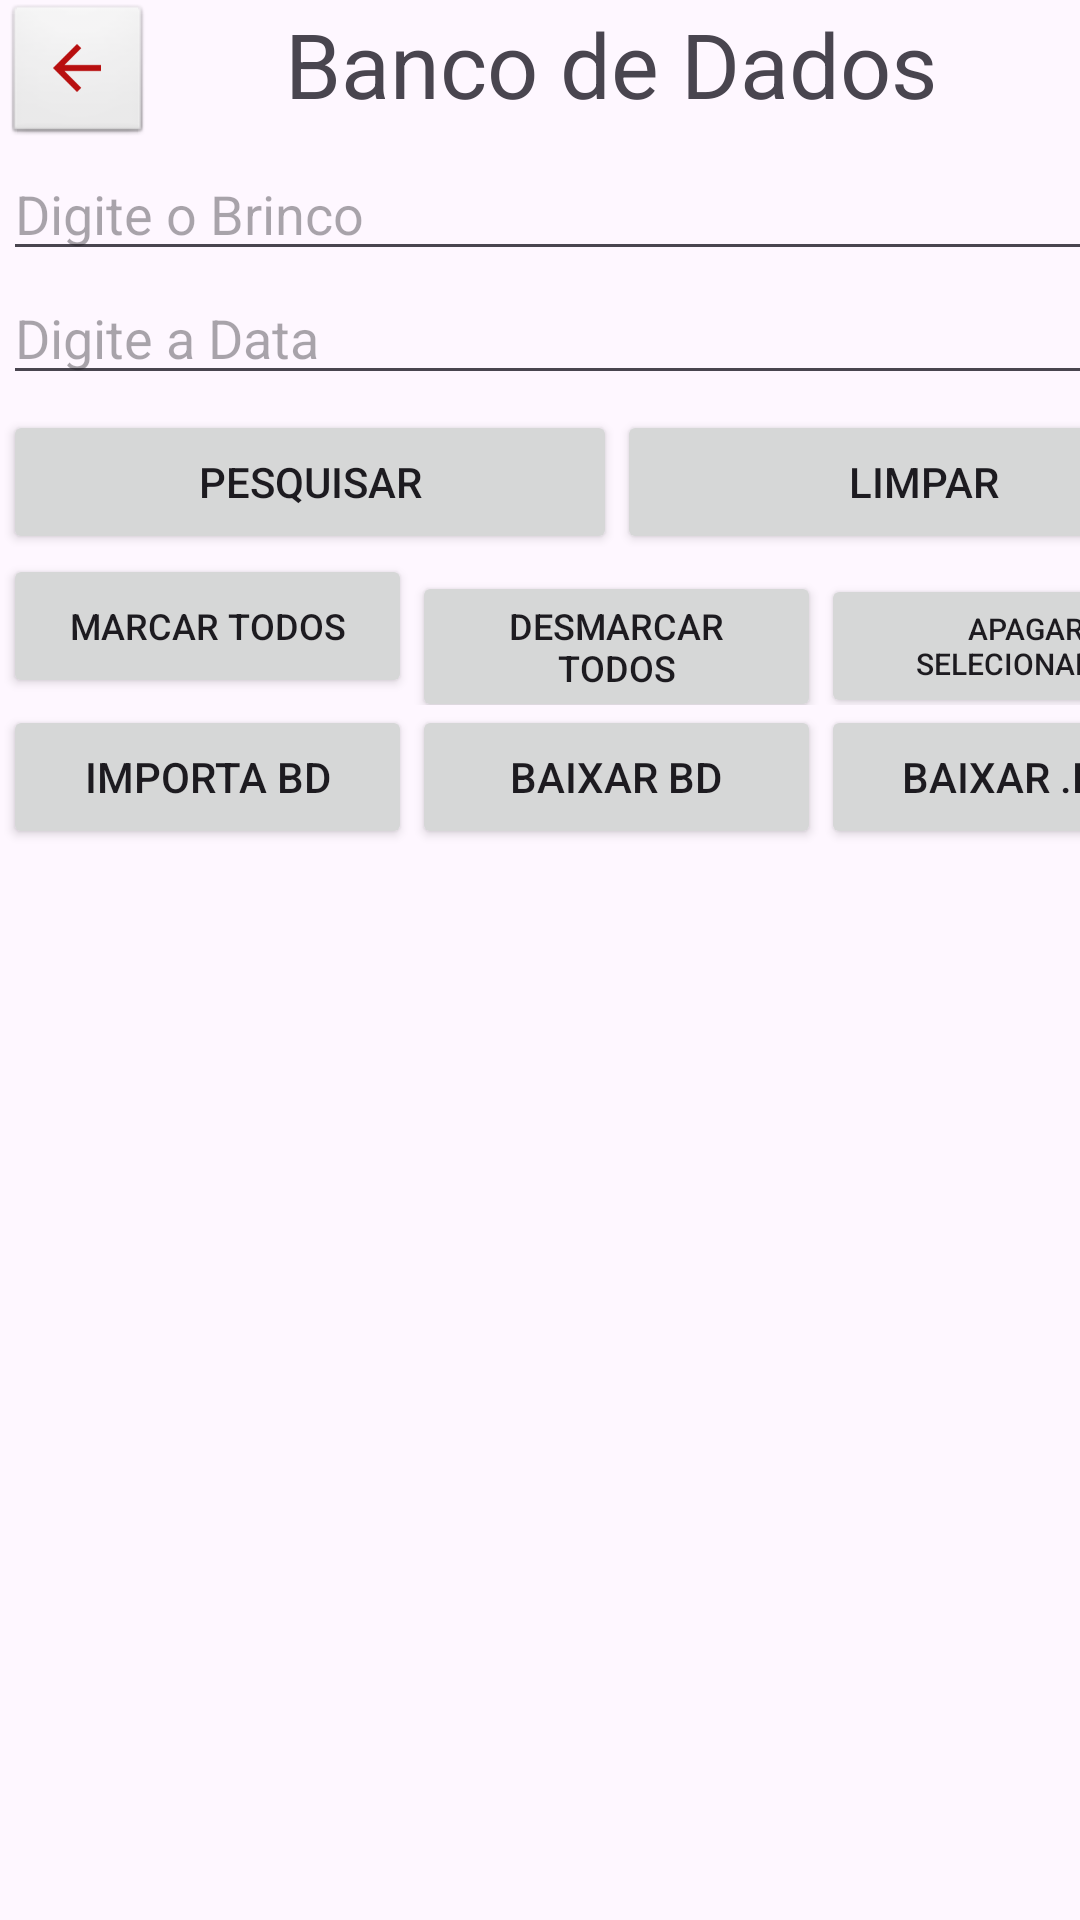

Where icons sit on this 1080*1920 app screen, as [x1=x1, y1=y1, x2=x2, y2=y2]:
arrow back: [x1=11, y1=5, x2=144, y2=135]
